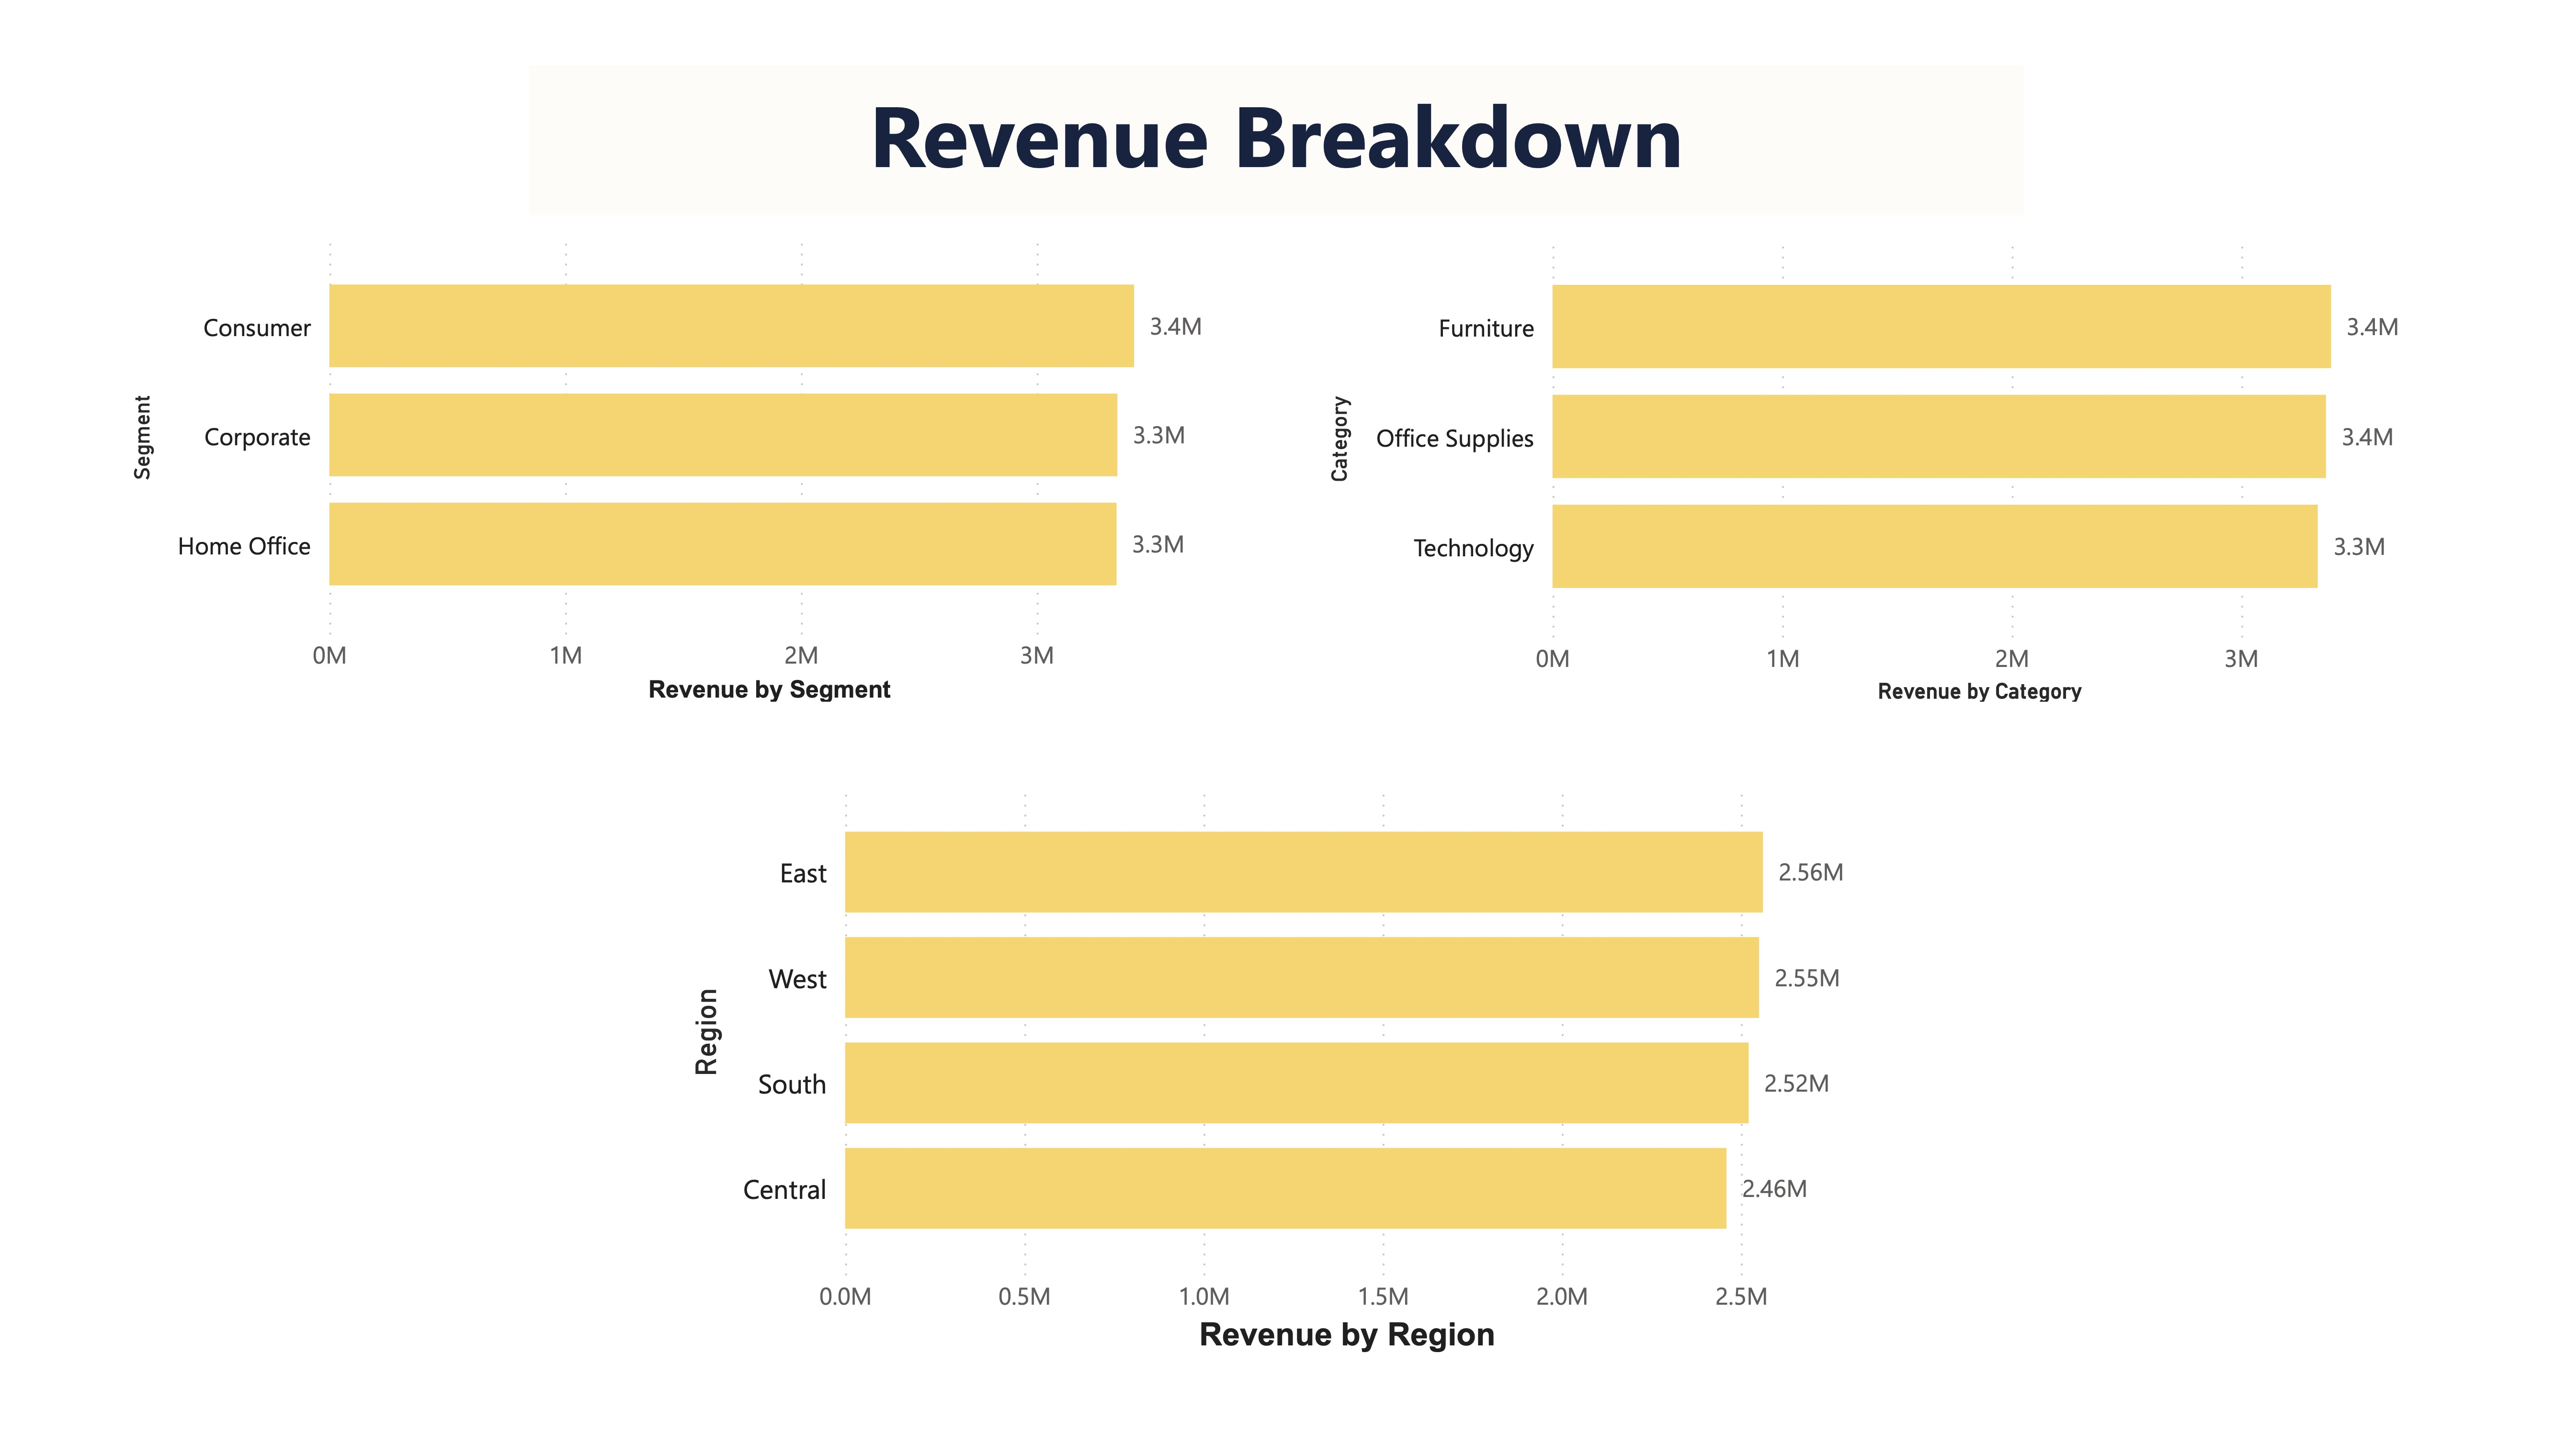

The page's visual inventory and layout, read from the dashboard file:
{"tool":"powerbi","page":{"name":"Revenue Breakdown","canvas":[1280,720],"ordinal":1},"visuals":[{"type":"textbox","box":[265.3,27.5,749.4,75.4],"z":0},{"type":"clusteredBarChart","fields":{"Category":["superstore_sample_large 1.Segment"],"Y":["Sum(superstore_sample_large 1.Sales)"]},"box":[60.9,102.9,559.5,249.3],"z":1000},{"type":"clusteredBarChart","fields":{"Category":["superstore_sample_large 1.Category"],"Y":["Sum(superstore_sample_large 1.Sales)"]},"box":[661,102.9,559.5,249.3],"z":2000},{"type":"clusteredBarChart","fields":{"Y":["Sum(superstore_sample_large 1.Sales)"],"Category":["superstore_sample_large 1.Region"]},"box":[340.7,378.3,600.1,300.1],"z":3000}]}

Visuals, with their boxes in screenshot pixels (x1, y1, x2, y2), scaled from the page's 1280x720 canvas onto the 2554x1456 screenshot:
textbox: Rect(529, 56, 2025, 208)
clusteredBarChart - superstore_sample_large 1.Segment x Sum(superstore_sample_large 1.Sales): Rect(122, 208, 1238, 712)
clusteredBarChart - superstore_sample_large 1.Category x Sum(superstore_sample_large 1.Sales): Rect(1319, 208, 2435, 712)
clusteredBarChart - Sum(superstore_sample_large 1.Sales) x superstore_sample_large 1.Region: Rect(680, 765, 1877, 1372)
